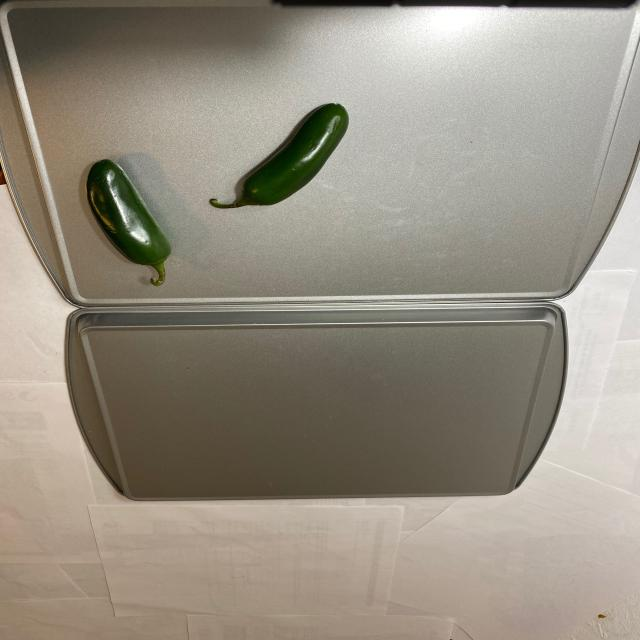chilli: (74, 93, 358, 293)
